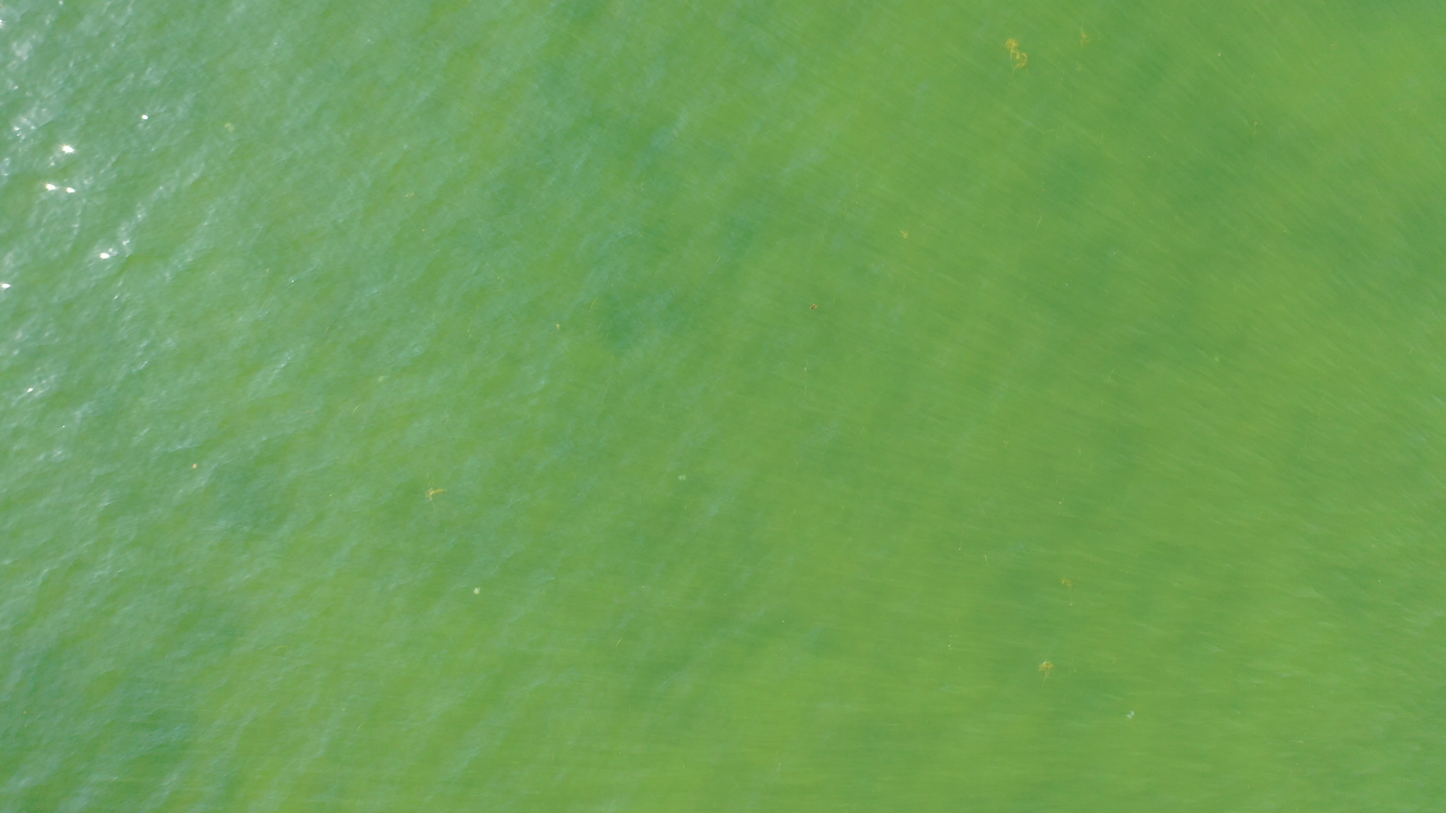meduse: (1126, 710, 1135, 719), (475, 588, 482, 594), (378, 376, 384, 382), (678, 475, 683, 482)
